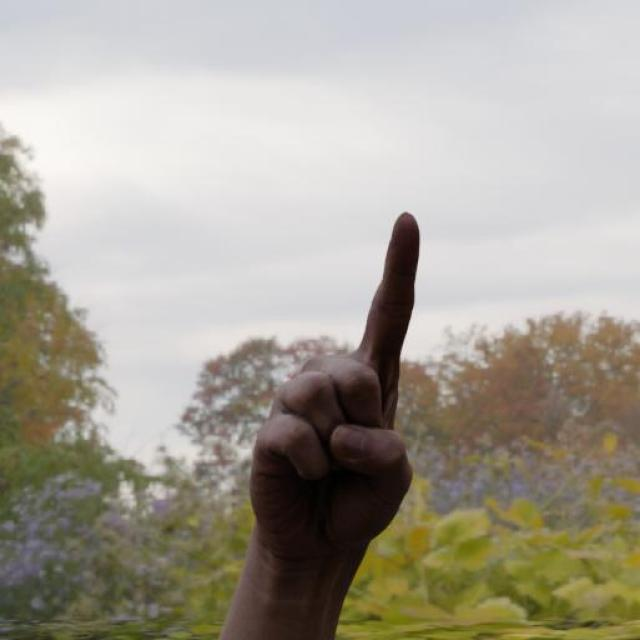Z: (248, 205, 422, 551)
